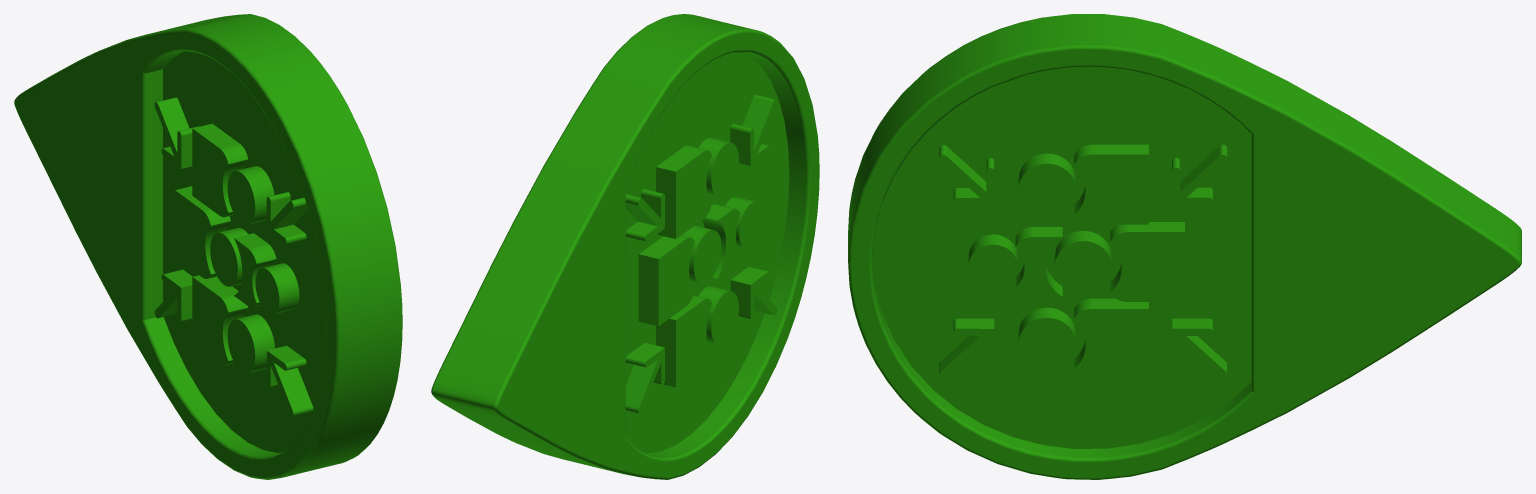
The model's file is ICONO 15.fbx.
The picture shows the model from 3 angles, left to right: view 1: azimuth 30°, elevation 25°; view 2: azimuth 150°, elevation 25°; view 3: azimuth 270°, elevation 25°; orthographic projection. The views are drawn at different scales.
Parts seen in each view (by area): view 1: Body22; view 2: Body22; view 3: Body22.
Part boxes in pixels (x1,y1,x2,y2): Body22: (14,14,402,479); Body22: (431,14,819,479); Body22: (848,14,1521,479).
Size of the model in its own units: 112 by 675 by 947.
